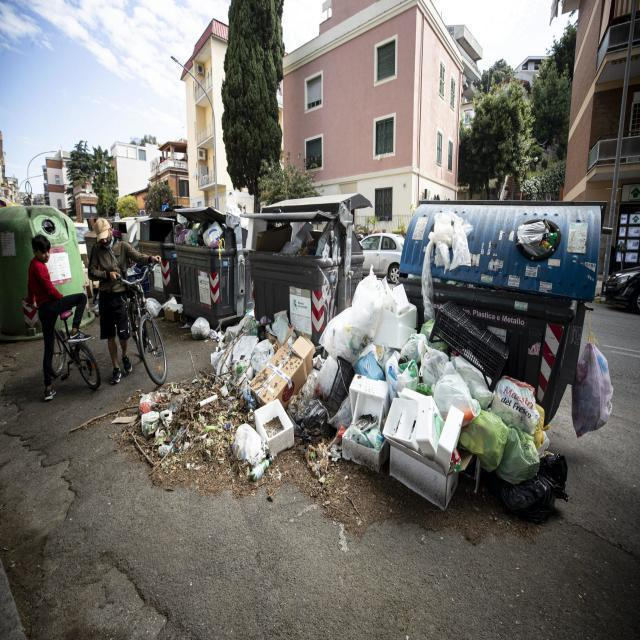high trash: (212, 271, 568, 522)
